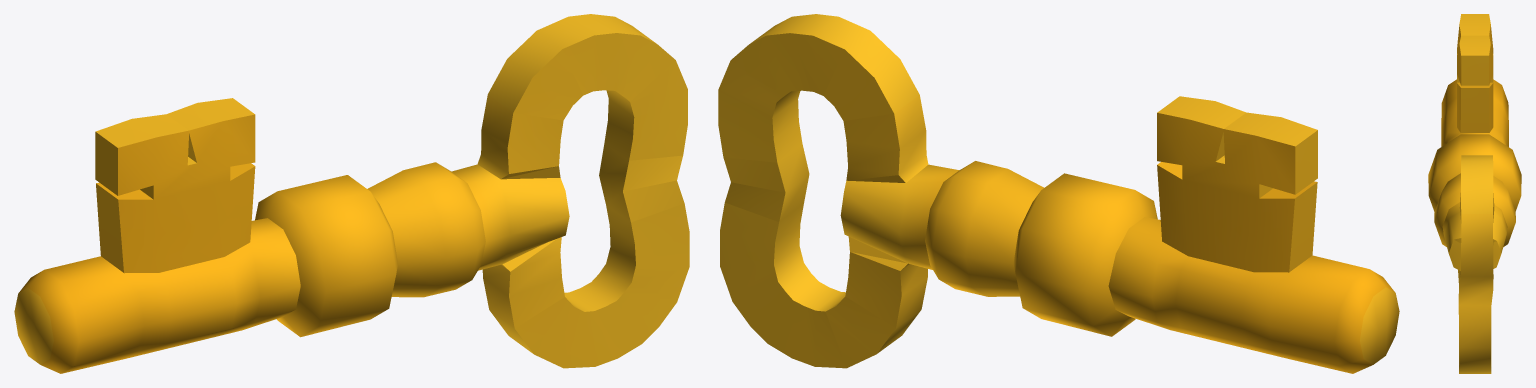
File: Key.fbx
3 renders of one model, left to right at view 1: azimuth 30°, elevation 25°; view 2: azimuth 150°, elevation 25°; view 3: azimuth 270°, elevation 25°, orthographic. The views are drawn at different scales.
Parts seen in each view (by area): view 1: Key_B_02; view 2: Key_B_02; view 3: Key_B_02.
Boxes of the visible parts, x1,y1,x2,y2 form: Key_B_02: (14,14,689,373); Key_B_02: (718,14,1399,373); Key_B_02: (1428,14,1521,373).
Size of the model in its own units: 783 by 390 by 157.
